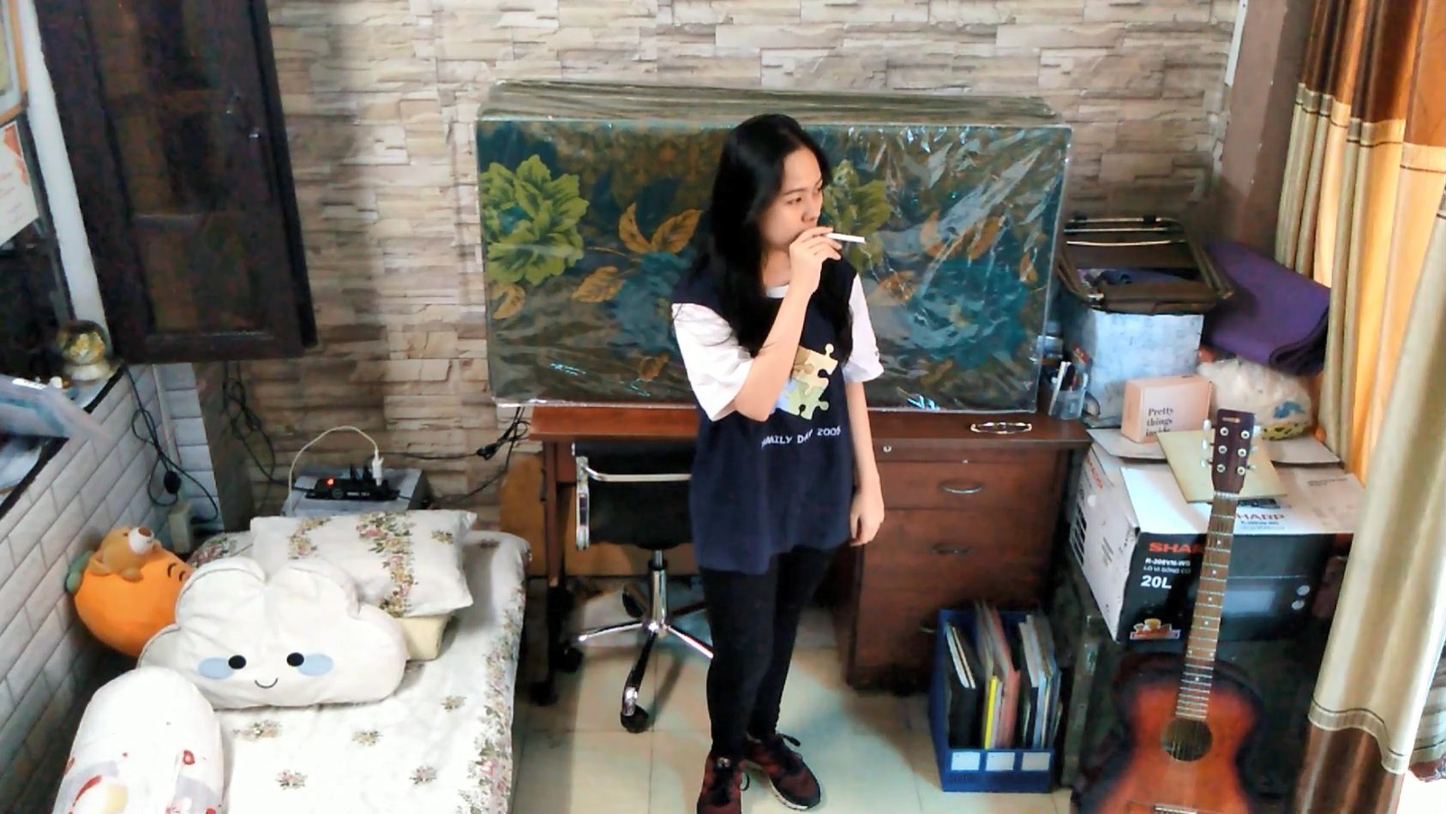cigarette: (819, 220, 876, 258)
person: (624, 92, 919, 814)
